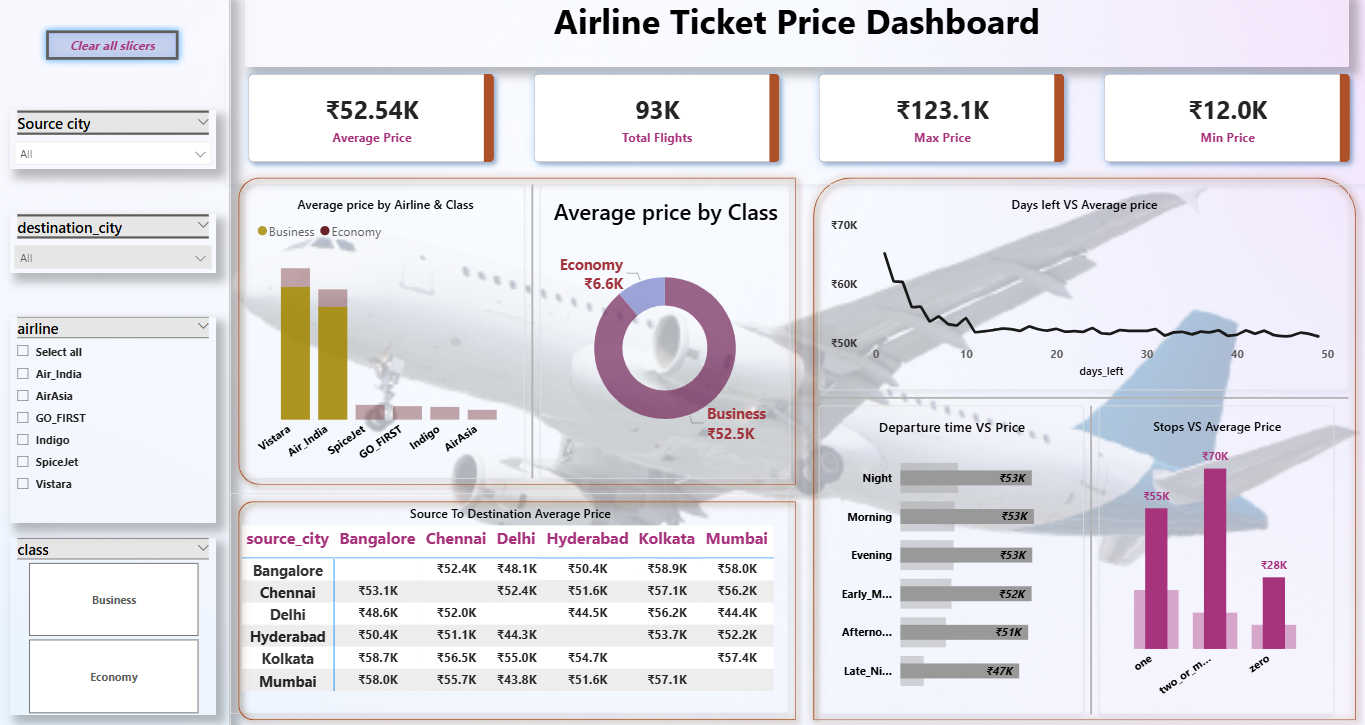

This screenshot's page, from the dashboard's own definition file:
{"tool":"powerbi","page":{"name":"Airline Price Dashbord","canvas":[1500,800],"ordinal":0},"visuals":[{"type":"textbox","box":[272,0,1200,80],"z":0},{"type":"cardVisual","fields":{"Data":["flights_data airlines.Average Price","flights_data airlines.Total Flights","flights_data airlines.Max Price","flights_data airlines.Min Price"]},"box":[252,64,1248,144],"z":1000},{"type":"shape","box":[0,0,256,800],"z":2000},{"type":"slicer","fields":{"Values":["flights_data airlines.source_city"]},"box":[16,128,224,64],"z":3000},{"type":"slicer","fields":{"Values":["flights_data airlines.destination_city"]},"box":[16,240,224,64],"z":4000},{"type":"slicer","fields":{"Values":["flights_data airlines.class"]},"box":[16,592,224,192],"z":5000},{"type":"slicer","fields":{"Values":["flights_data airlines.airline"]},"box":[16,352,224,224],"z":6000},{"type":"actionButton","box":[48,32,160,48],"z":7000},{"type":"image","box":[256,80,1232,720],"z":8000},{"type":"shape","box":[256,192,624,352],"z":9000},{"type":"shape","box":[880,192,608,608],"z":9001},{"type":"pivotTable","title":"Source To Destination Average Price","fields":{"Rows":["flights_data airlines.source_city"],"Columns":["flights_data airlines.destination_city"],"Values":["flights_data airlines.Average Price"]},"box":[256,544,608,240],"z":9002},{"type":"lineChart","title":"Days left VS Average price ","fields":{"Category":["flights_data airlines.days_left"],"Y":["Avg(flights_data airlines.price)"]},"box":[896,208,576,224],"z":9003},{"type":"shape","box":[896,432,576,16],"z":9004},{"type":"shape","box":[1184,448,16,336],"z":9005},{"type":"donutChart","title":"Average price by Class","fields":{"Category":["flights_data airlines.class"],"Y":["Avg(flights_data airlines.price)"]},"box":[592,208,272,320],"z":9006},{"type":"columnChart","title":"Stops VS Average Price","fields":{"Category":["flights_data airlines.stops"],"Y":["Avg(flights_data airlines.price)"]},"box":[1200,448,256,336],"z":9007},{"type":"shape","box":[256,544,624,256],"z":9008},{"type":"columnChart","title":"Average price by Airline & Class","fields":{"Y":["Avg(flights_data airlines.price)"],"Series":["flights_data airlines.class"],"Category":["flights_data airlines.airline"]},"box":[272,208,304,320],"z":9009},{"type":"shape","box":[576,208,16,320],"z":9010},{"type":"clusteredBarChart","title":"Departure time VS Price","fields":{"Category":["flights_data airlines.departure_time"],"Y":["Avg(flights_data airlines.price)"]},"box":[896,448,288,336],"z":9011}]}

Visuals, with their boxes in screenshot pixels (x1, y1, x2, y2), scaled from the page's 1500x800 canvas onto the 1365x725 screenshot:
textbox: detection(248, 0, 1340, 72)
cardVisual - flights_data airlines.Average Price x flights_data airlines.Total Flights: detection(229, 58, 1364, 188)
shape: detection(0, 0, 233, 724)
slicer - flights_data airlines.source_city: detection(15, 116, 218, 174)
slicer - flights_data airlines.destination_city: detection(15, 218, 218, 276)
slicer - flights_data airlines.class: detection(15, 536, 218, 710)
slicer - flights_data airlines.airline: detection(15, 319, 218, 522)
actionButton: detection(44, 29, 189, 72)
image: detection(233, 72, 1354, 724)
shape: detection(233, 174, 801, 493)
shape: detection(801, 174, 1354, 724)
"Source To Destination Average Price" pivotTable: detection(233, 493, 786, 710)
"Days left VS Average price " lineChart: detection(815, 188, 1340, 392)
shape: detection(815, 392, 1340, 406)
shape: detection(1077, 406, 1092, 710)
"Average price by Class" donutChart: detection(539, 188, 786, 478)
"Stops VS Average Price" columnChart: detection(1092, 406, 1325, 710)
shape: detection(233, 493, 801, 724)
"Average price by Airline & Class" columnChart: detection(248, 188, 524, 478)
shape: detection(524, 188, 539, 478)
"Departure time VS Price" clusteredBarChart: detection(815, 406, 1077, 710)
